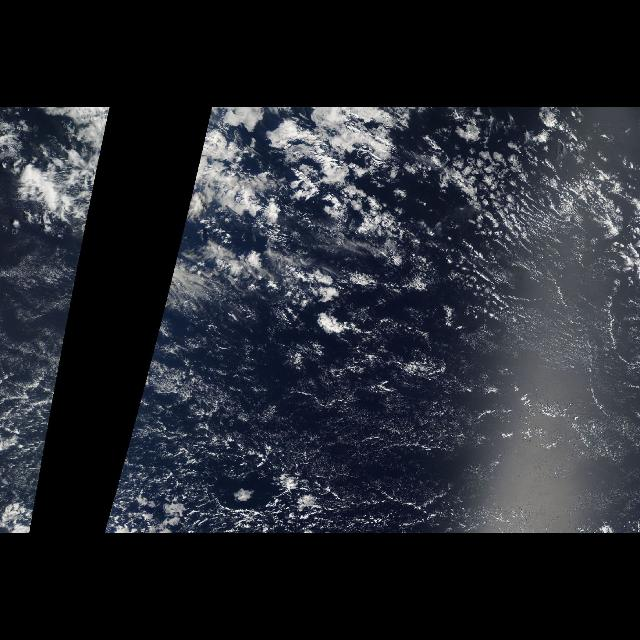Sugar: (107, 315, 631, 531)
